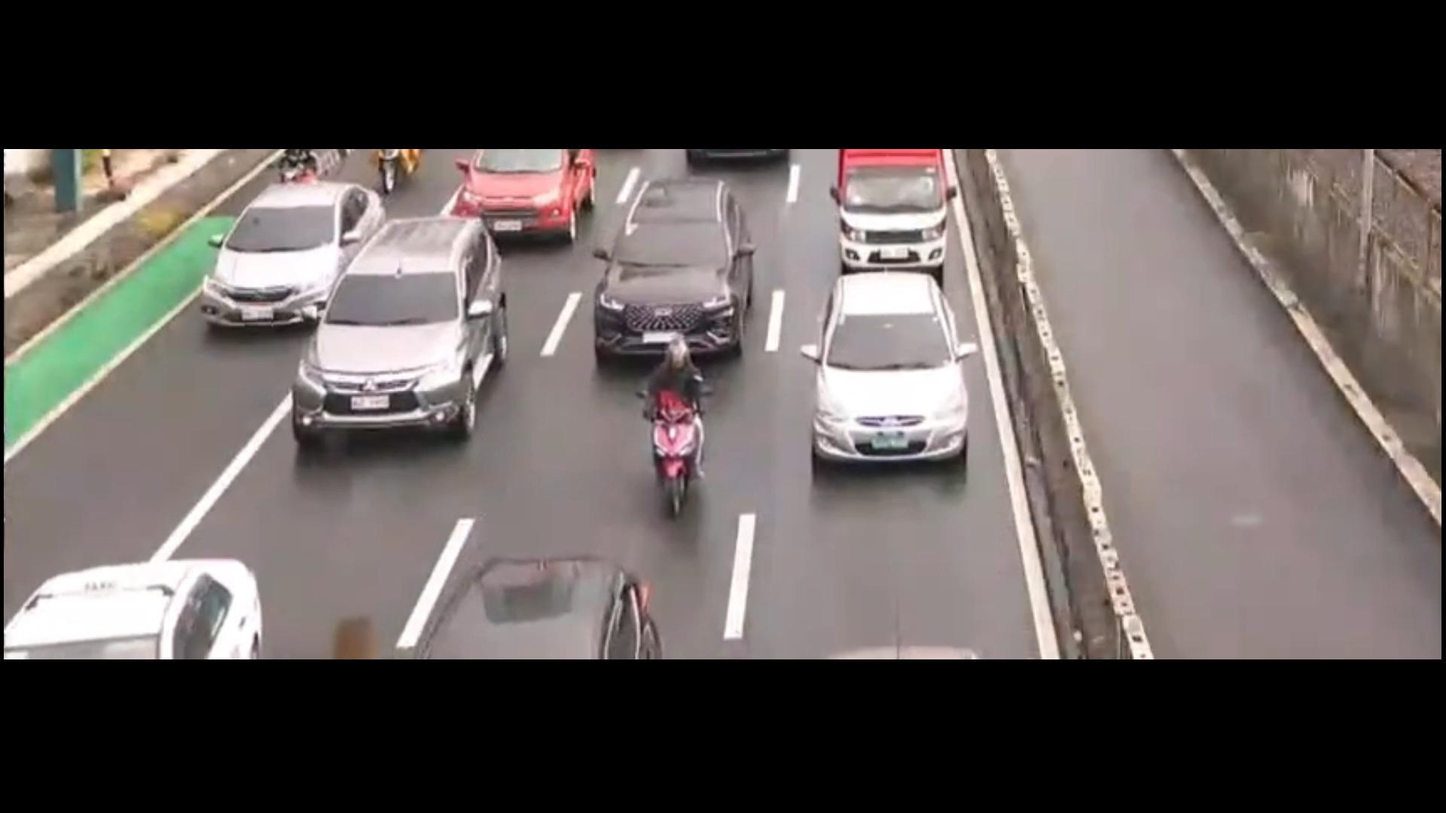Motorcycle: (629, 343, 723, 512)
SUV: (296, 218, 508, 450), (589, 173, 747, 375), (403, 559, 661, 659)
Sedan: (796, 275, 975, 467), (0, 540, 275, 661), (190, 183, 386, 329), (458, 143, 616, 247)
Truck: (828, 151, 947, 280)
